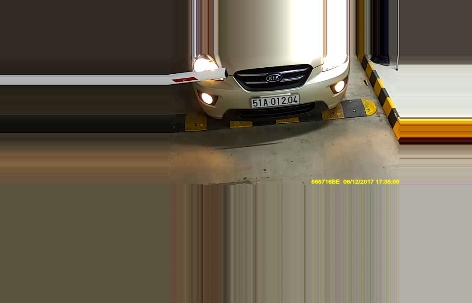plate: (249, 92, 300, 107)
